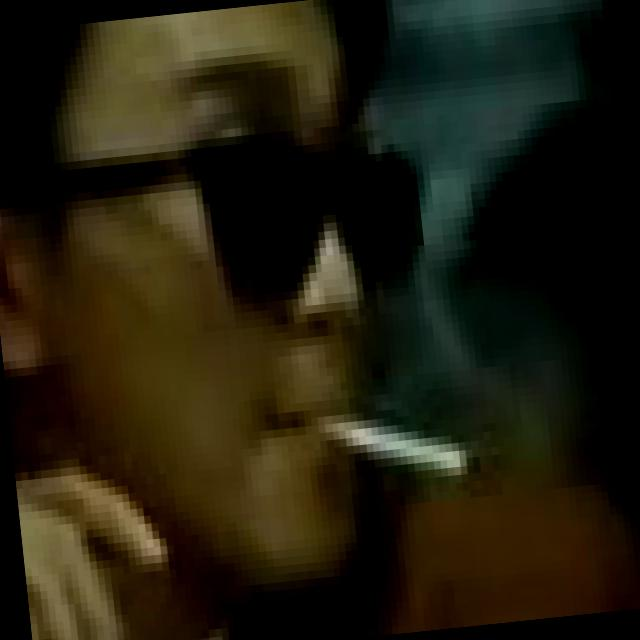smoke: (319, 403, 491, 511)
